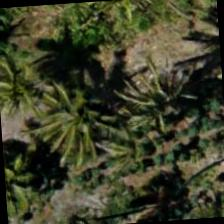Kelapa_Sawit: (30, 77, 126, 174), (0, 41, 53, 135)
